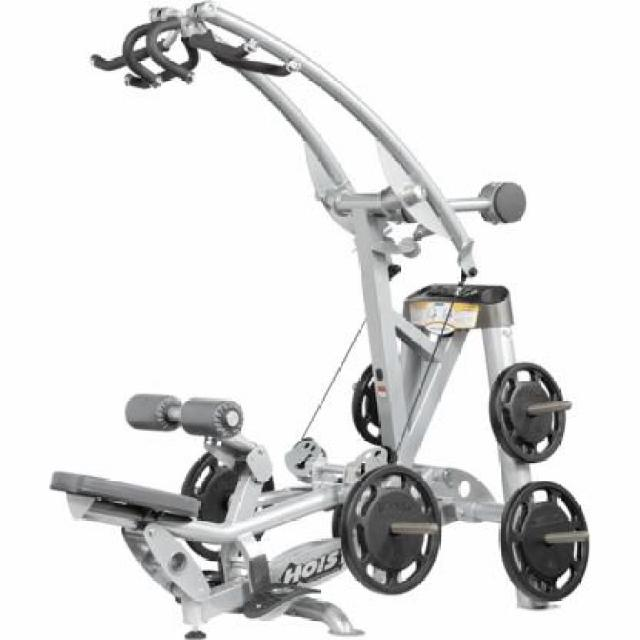Lat Pull Down: (44, 0, 610, 640)
